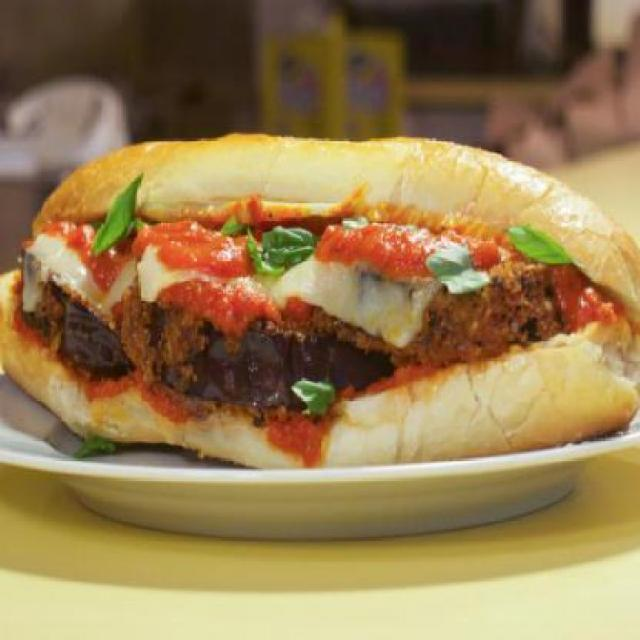eggplant: (18, 265, 560, 393)
hummus: (11, 222, 443, 342)
